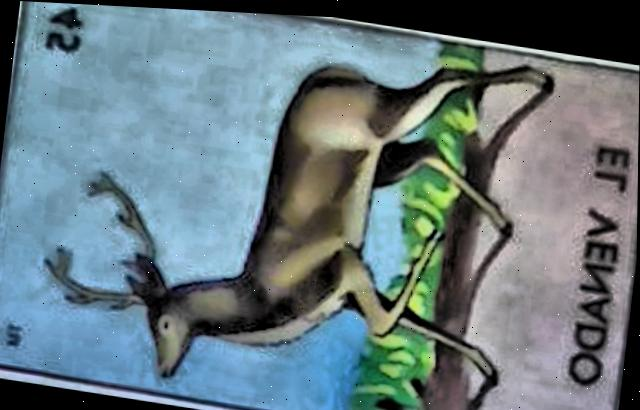El Venado: (0, 1, 640, 410)
